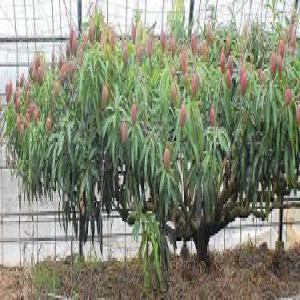Tree: (6, 5, 299, 286)
